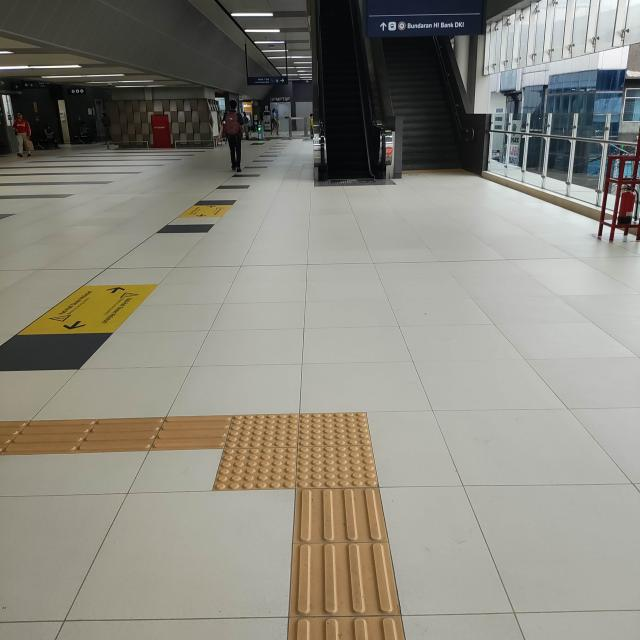kiri: (84, 349, 448, 564)
